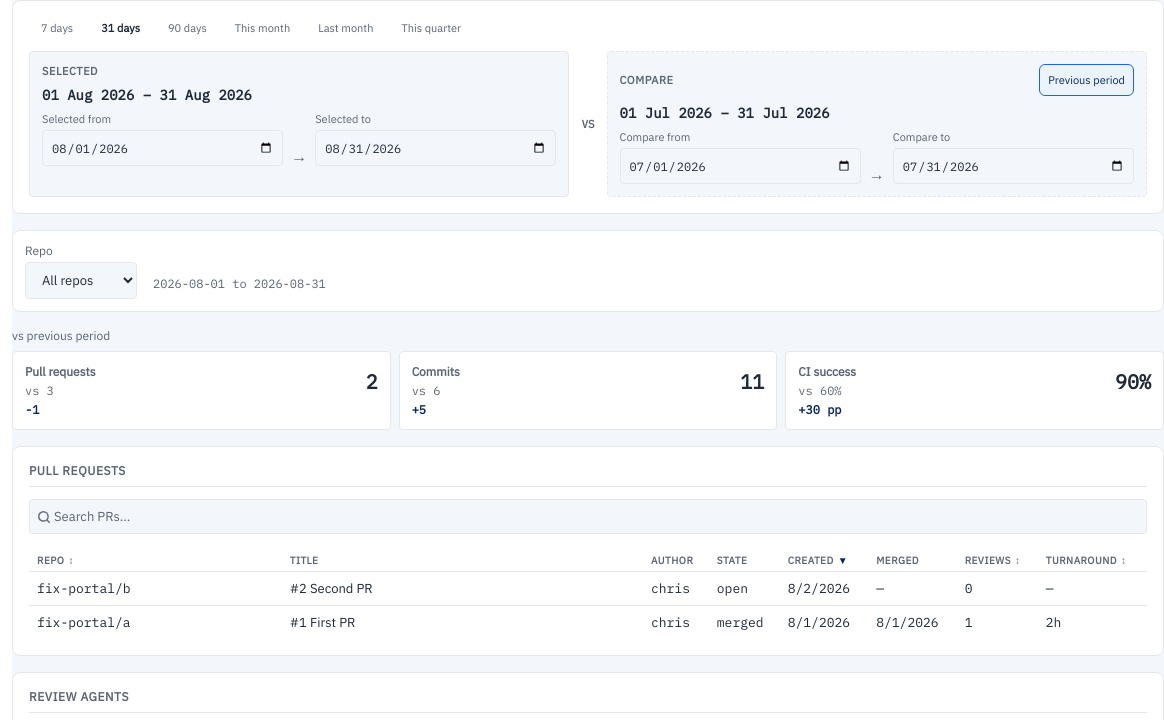
GitHubPage › applies the selected repo to pull requests, commits, CI, and review agents
Select "fix-portal/a" in the dropdown labelled "Repo" at [81, 280], box [25,262,137,299]
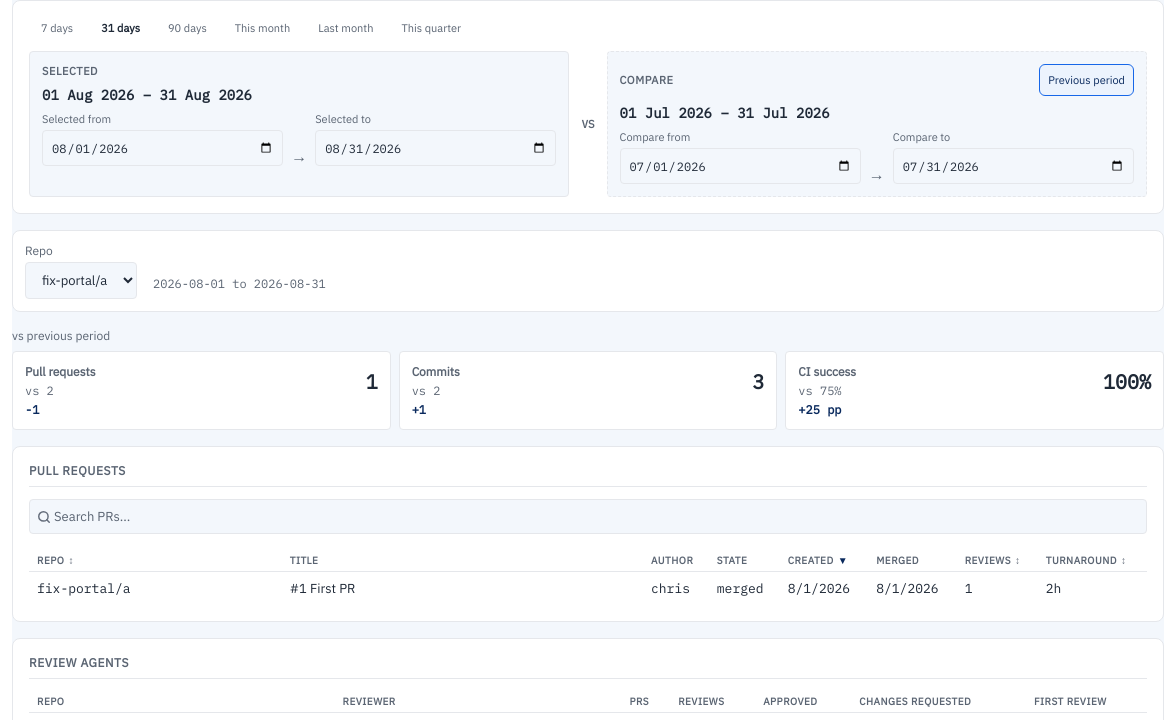
Expected: the text "Second PR" is gone
Expected: no cells "fix-portal/b" are shown
Expected: the number of cells "fix-portal/a" is 4
